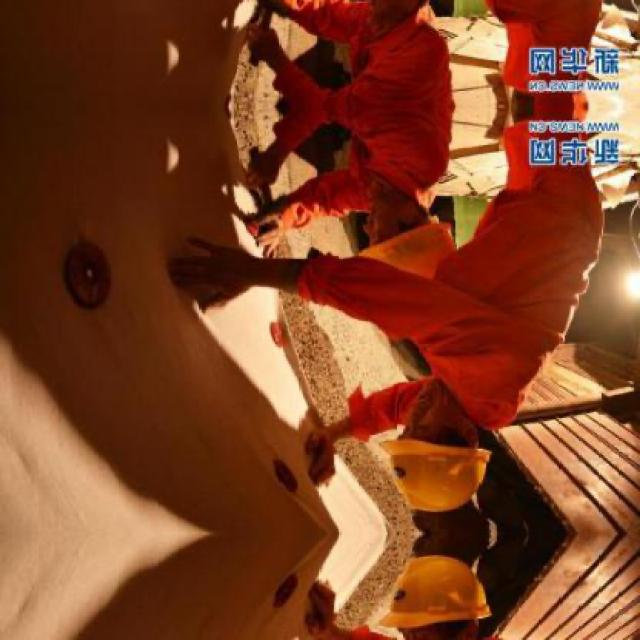con casco: (374, 399, 528, 522)
